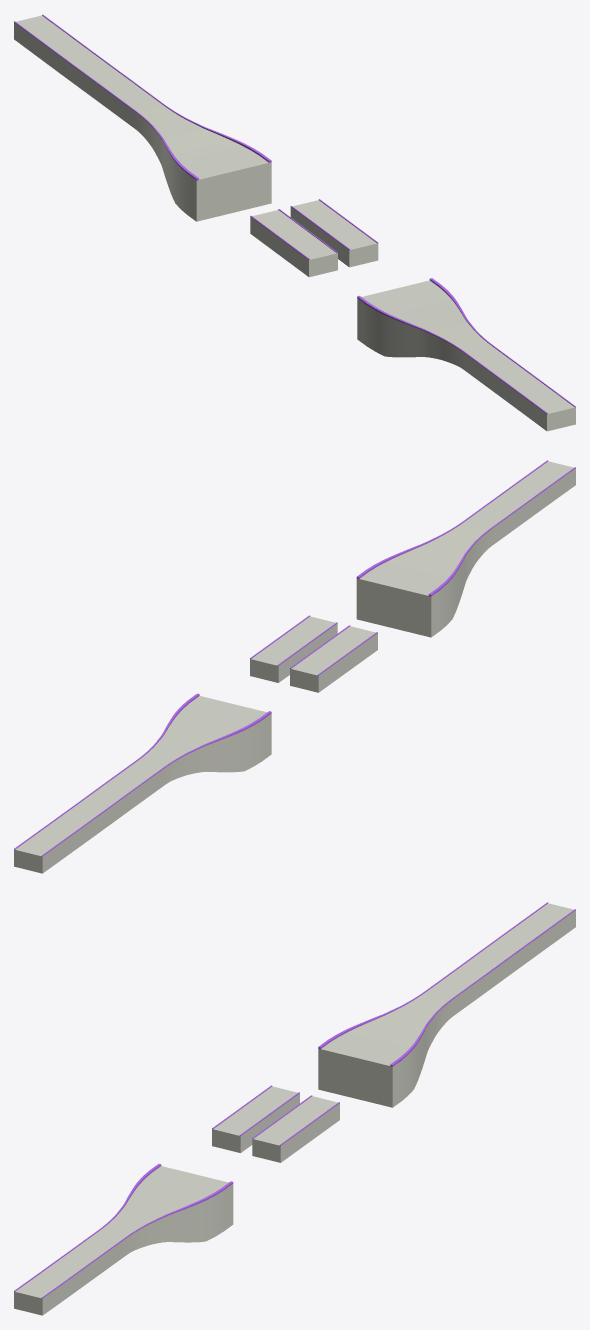
The model's file is Ramp lv 12.fbx.
3 views of the same model, one above another, from view 1: azimuth 30°, elevation 25°; view 2: azimuth 150°, elevation 25°; view 3: azimuth 330°, elevation 25° (orthographic).
Visible parts, largest first — view 1: lv 12; view 2: lv 12; view 3: lv 12.
Part boxes in pixels (x1=…): lv 12: x1=14, y1=14, x2=575, y2=431; lv 12: x1=14, y1=460, x2=575, y2=873; lv 12: x1=14, y1=902, x2=575, y2=1315.
Size of the model in its own units: 1942 by 1069 by 23980.
